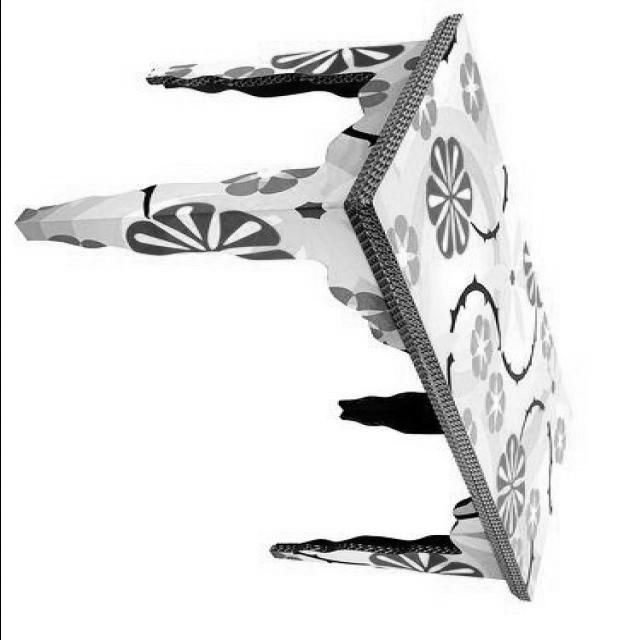table: (16, 14, 582, 603)
